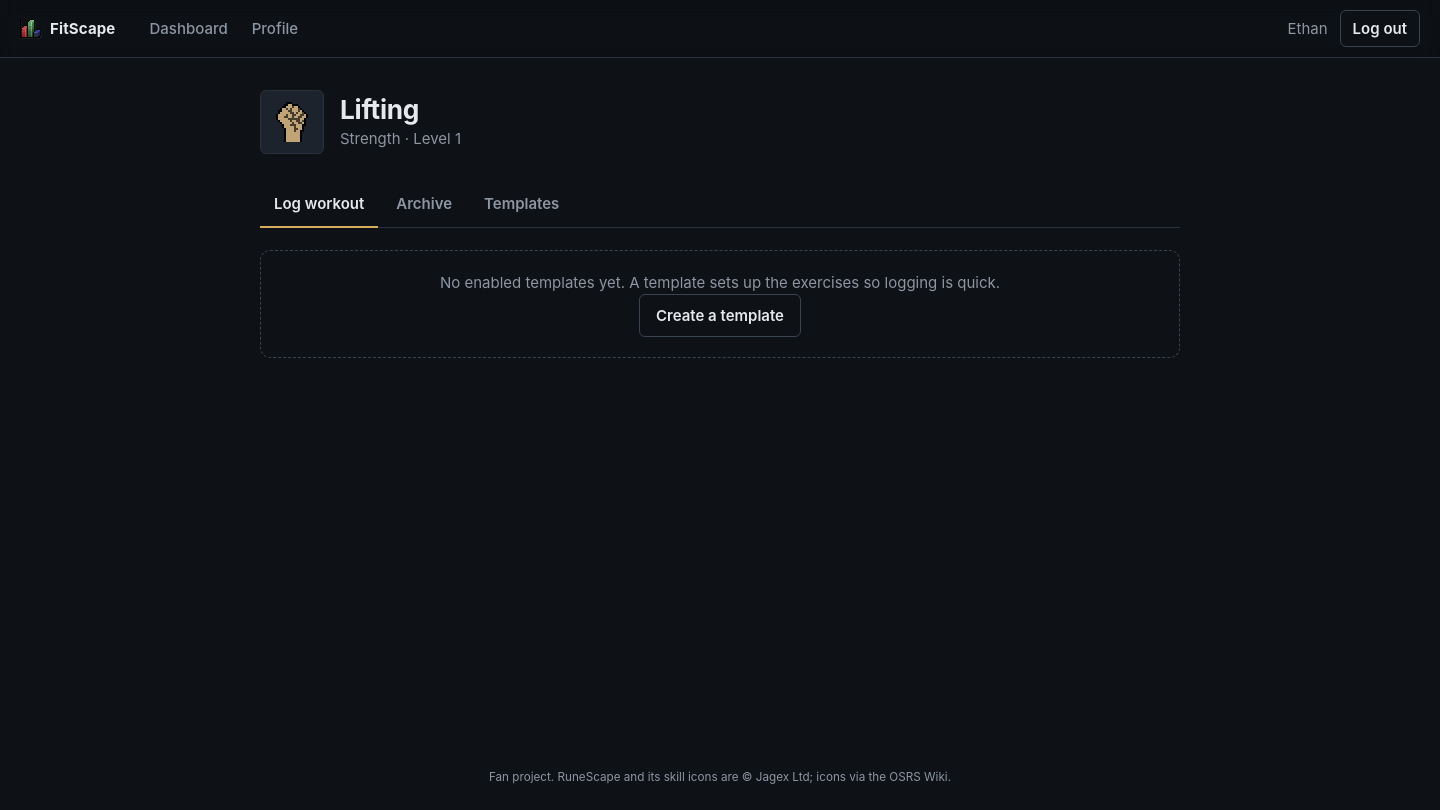
Scenario: Log workout › points to the templates tab when nothing is enabled
Step 1. Click the button "Create a template" → {"x": 720, "y": 315}, box [639,294,801,337]
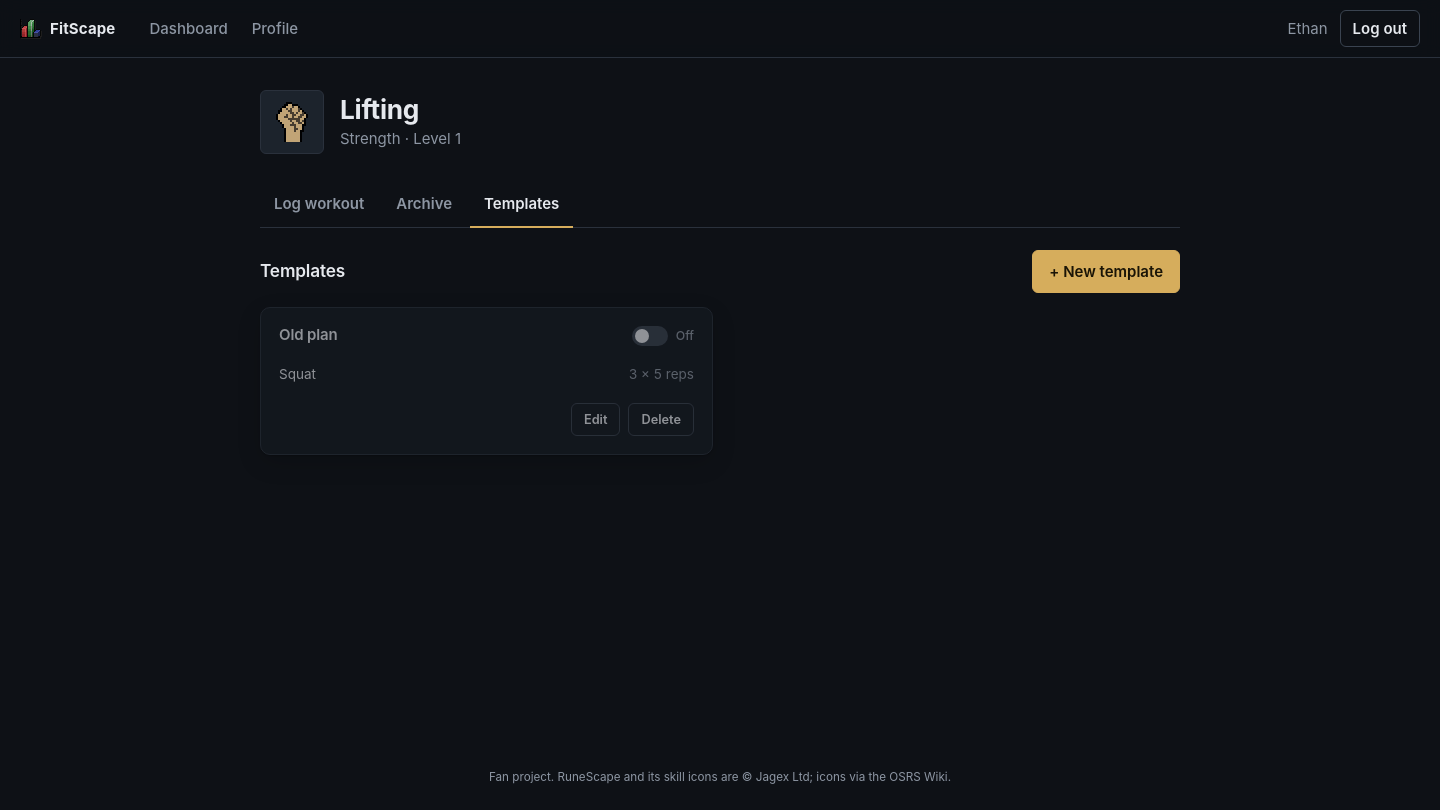
Expected: the heading "Old plan" is shown, [279,326,338,345]
